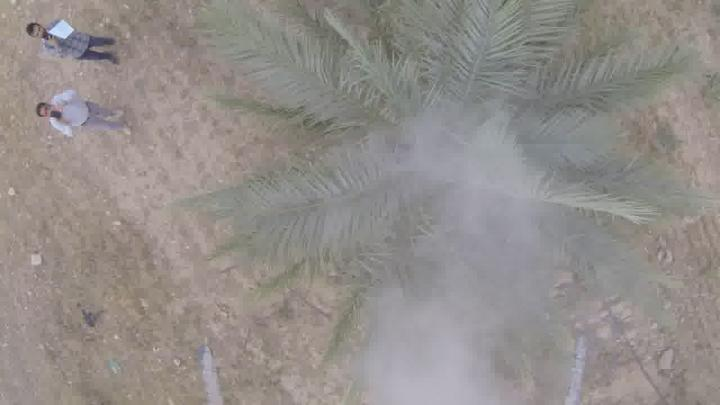Date-Palm-Crown: (275, 0, 581, 316)
